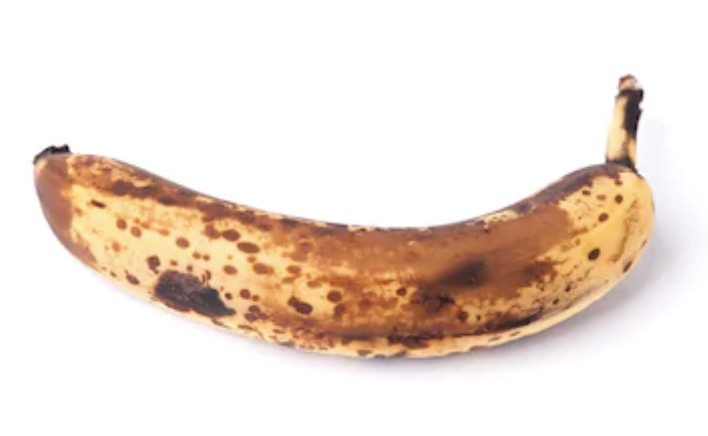rotten_banana: (32, 74, 655, 360)
